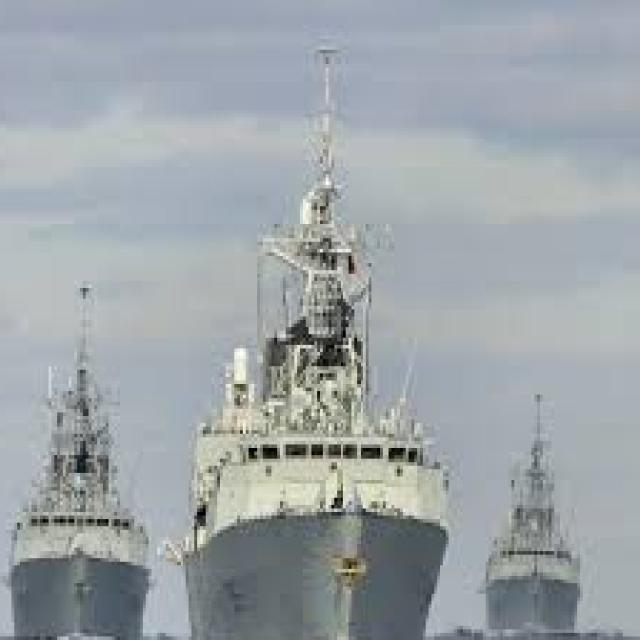navalvessels: (169, 60, 454, 640), (0, 295, 160, 640), (453, 391, 584, 629)
